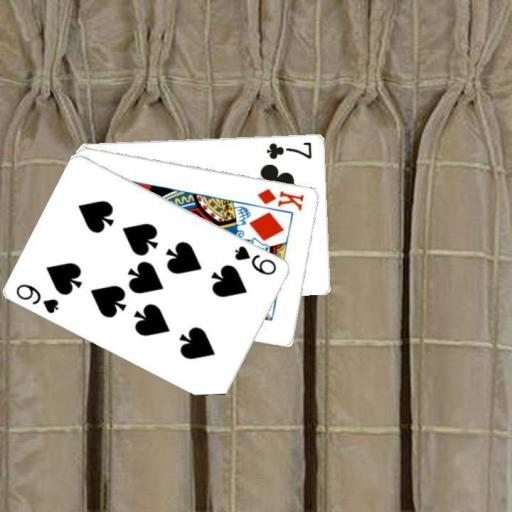card-corner: (13, 280, 61, 315), (231, 242, 279, 276), (254, 185, 306, 212), (264, 138, 314, 160)
